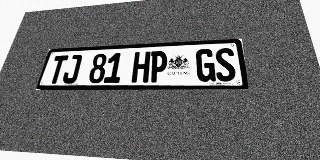1: (103, 53, 124, 83)
8: (87, 53, 108, 83)
G: (196, 49, 216, 82)
H: (131, 51, 151, 83)
J: (61, 55, 83, 84)
P: (149, 51, 168, 82)
S: (214, 48, 237, 82)
T: (47, 55, 69, 84)
